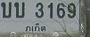txt21: (13, 1, 25, 19), (1, 1, 11, 19)
